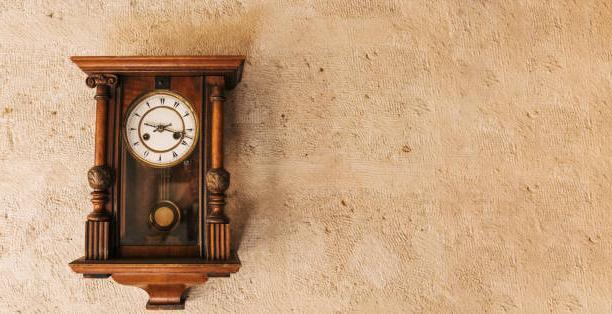clock: (124, 92, 198, 168)
